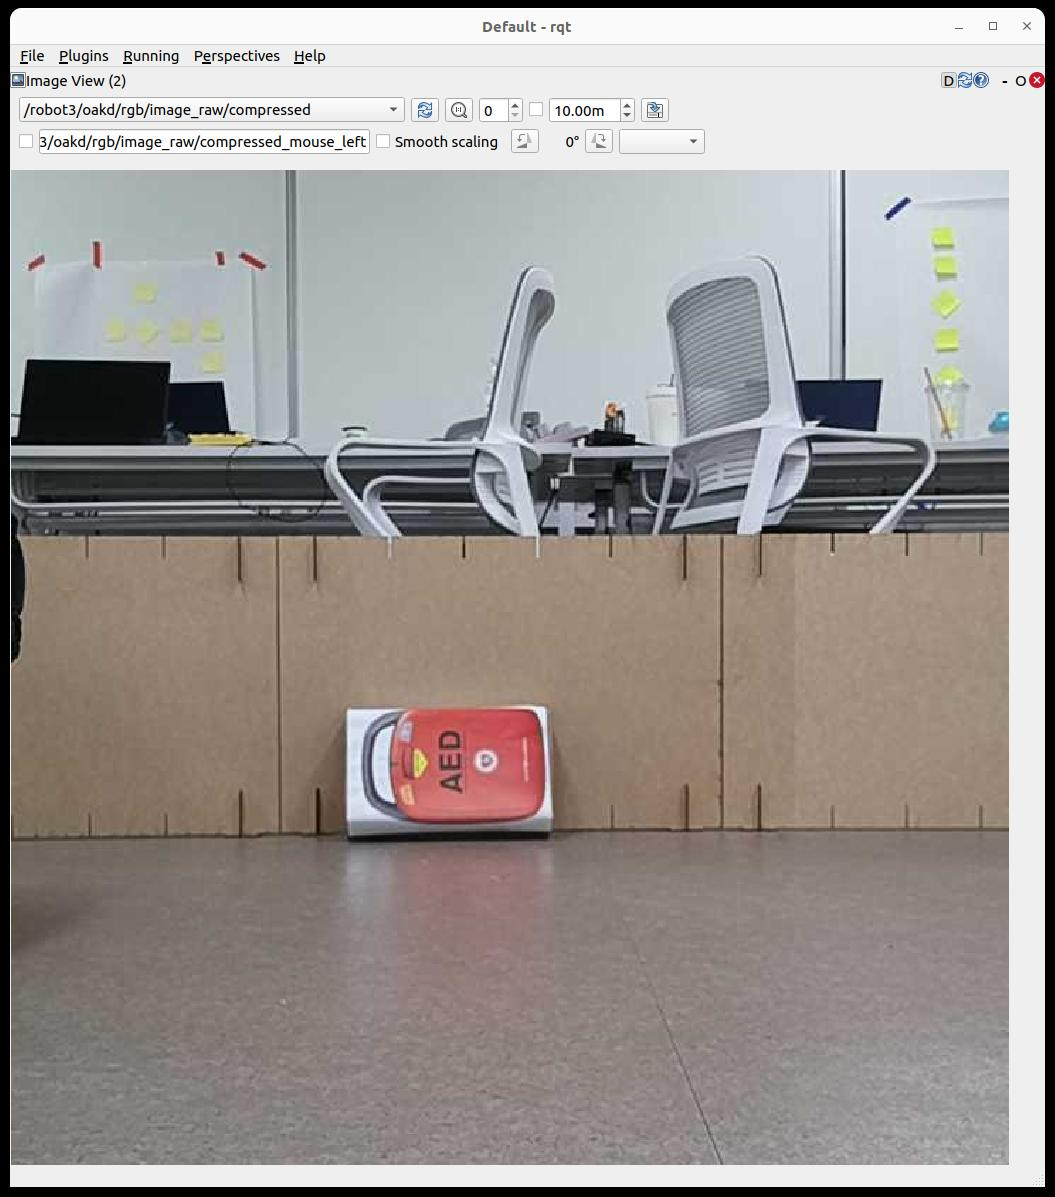AED: (362, 709, 547, 826)
